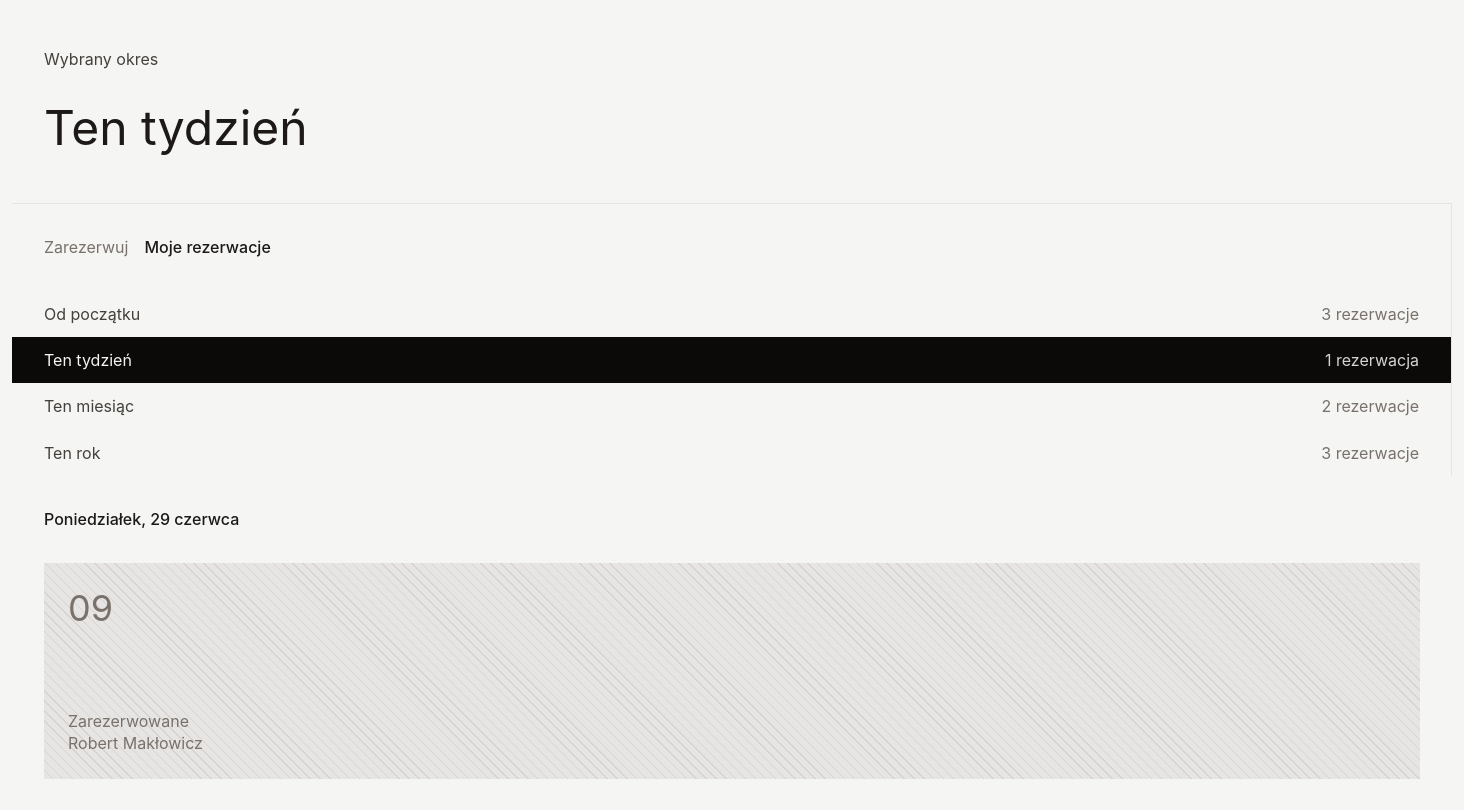
Test: MyReservationsView › selecting a reservation shows the editable form with Zapisz and Usuń
This screenshot has width=1464, height=810.
Click the text "09" at coordinates (90, 608), box x1=68 y1=586 x2=113 y2=630
(page scrolled)
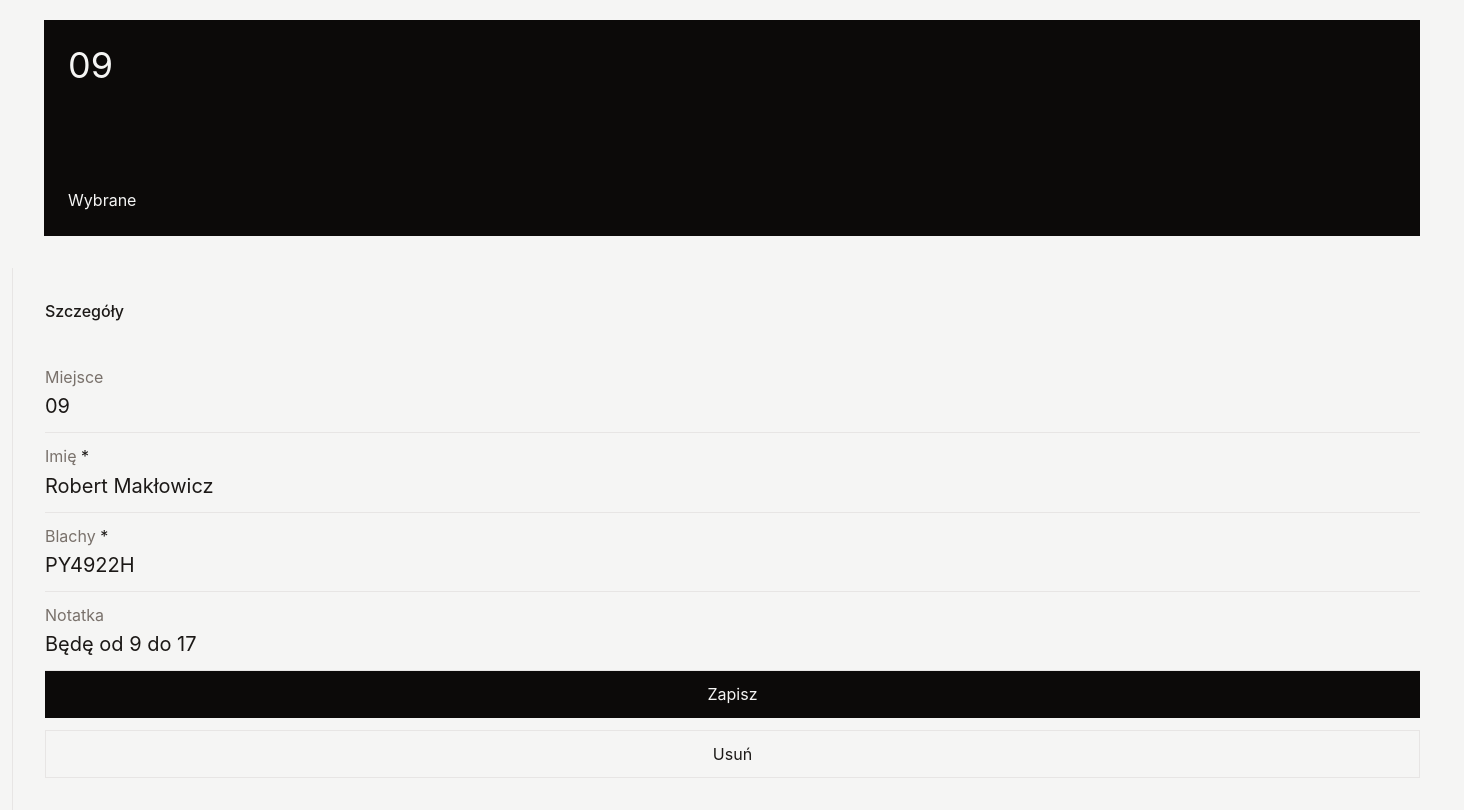
Check: the button "Zapisz" is shown, box x1=45 y1=672 x2=1420 y2=718
Check: the button "Usuń" is shown, box x1=45 y1=730 x2=1420 y2=778
